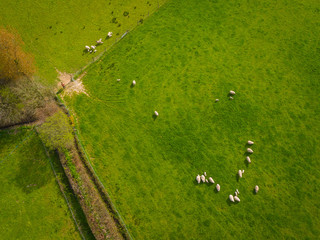sheep: (243, 154, 253, 165), (244, 146, 255, 155), (104, 29, 114, 38), (214, 182, 223, 192), (236, 168, 244, 179), (252, 184, 260, 195), (233, 194, 242, 203), (226, 194, 235, 203), (151, 109, 161, 117), (245, 139, 256, 146), (193, 174, 201, 183), (129, 78, 137, 86), (207, 175, 215, 183), (228, 89, 237, 96), (83, 44, 90, 52), (89, 43, 96, 51), (200, 174, 206, 183), (94, 37, 102, 43)
